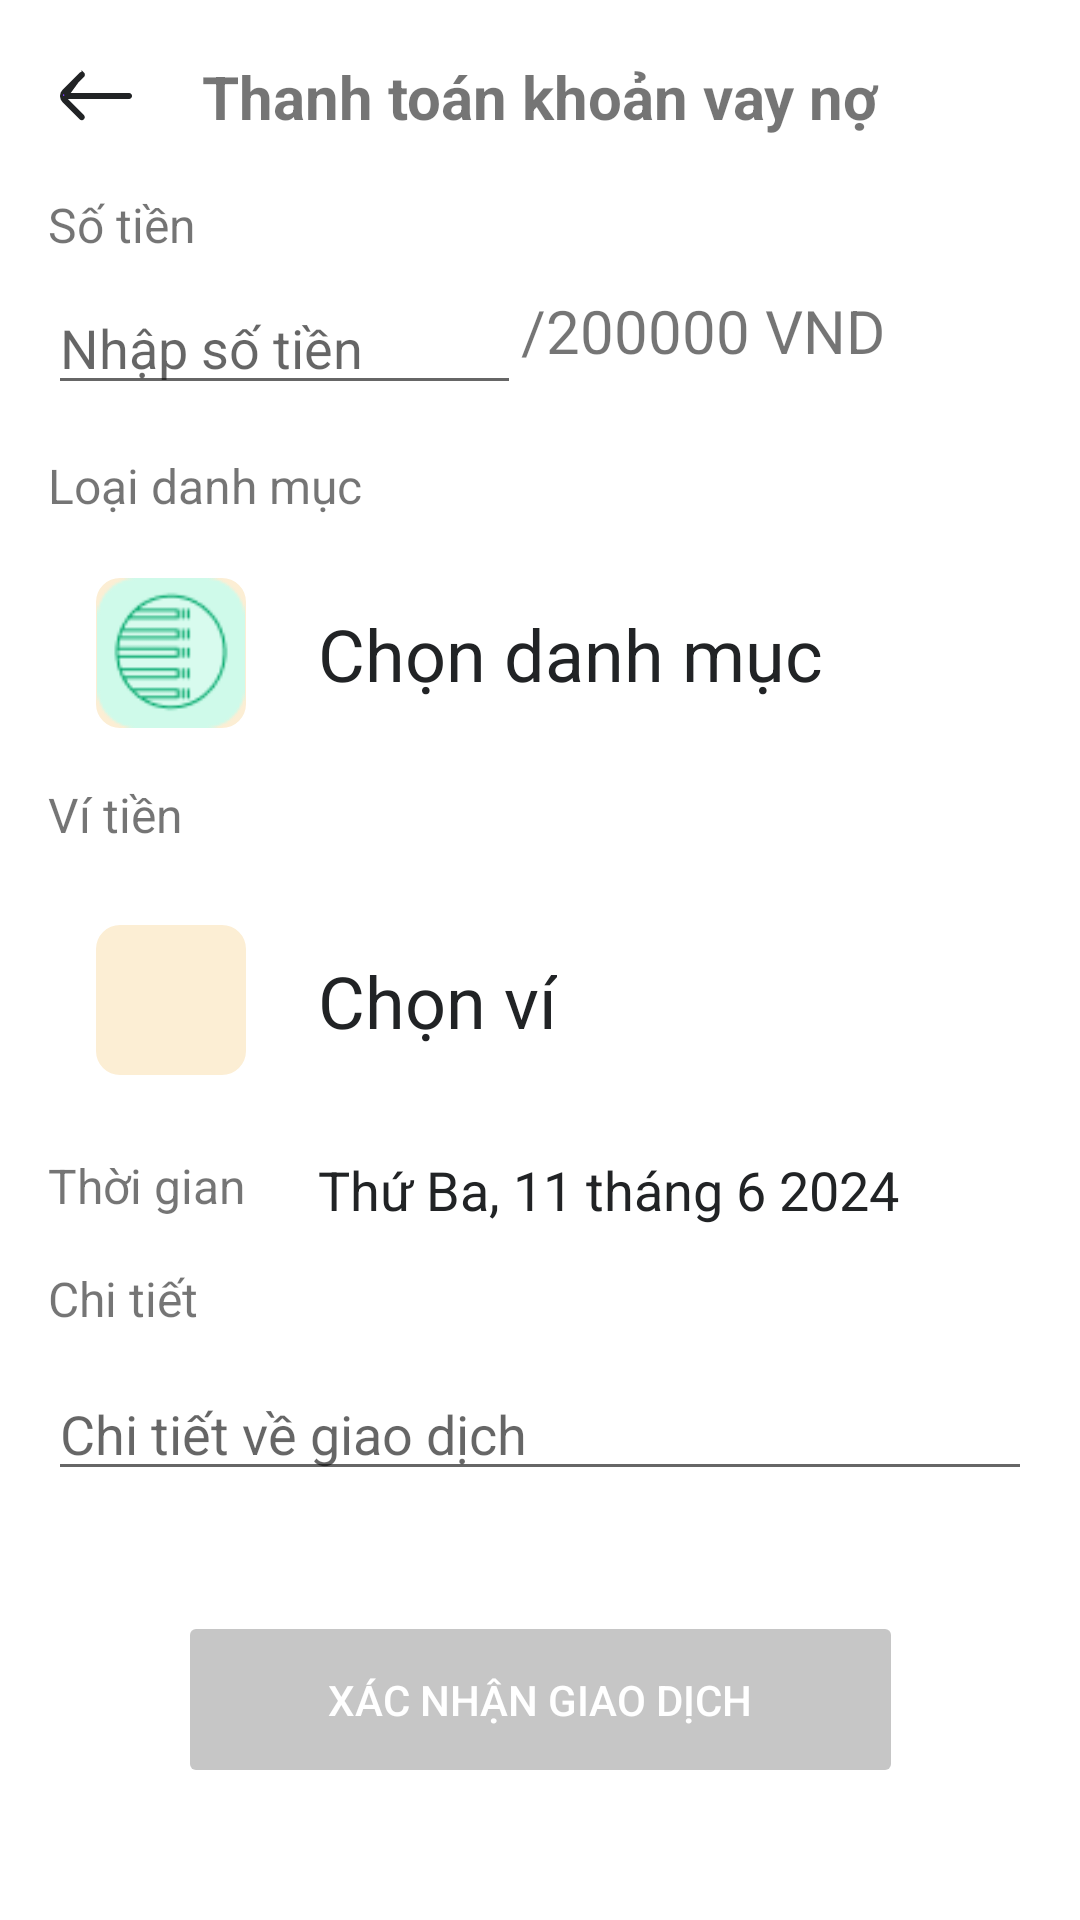

Icons on this 1080px×1920px Android screen, each with its box as (x1, y1, x2, y2):
back: (60, 70, 132, 121)
category: (96, 578, 246, 728)
